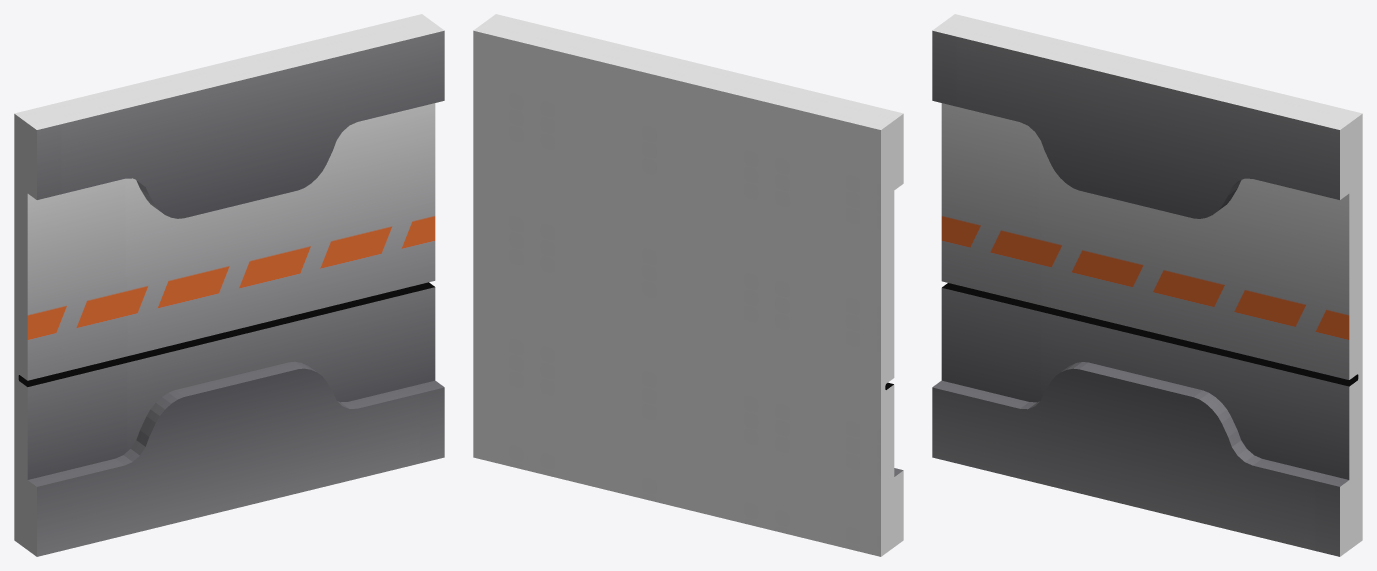
The model's file is 2048_Wall_PlainWall.fbx.
The picture shows the model from 3 angles, left to right: view 1: azimuth 30°, elevation 25°; view 2: azimuth 150°, elevation 25°; view 3: azimuth 330°, elevation 25°; orthographic projection.
Parts seen in each view (by area): view 1: TEXTURED_WT_PlainWall; view 2: TEXTURED_WT_PlainWall; view 3: TEXTURED_WT_PlainWall.
Part boxes in pixels (x1,y1,x2,y2): TEXTURED_WT_PlainWall: (14,14,444,556); TEXTURED_WT_PlainWall: (473,14,903,556); TEXTURED_WT_PlainWall: (932,14,1362,556).
Size of the model in its own units: 200 by 200 by 19.34.
1 material, 1 textured.
